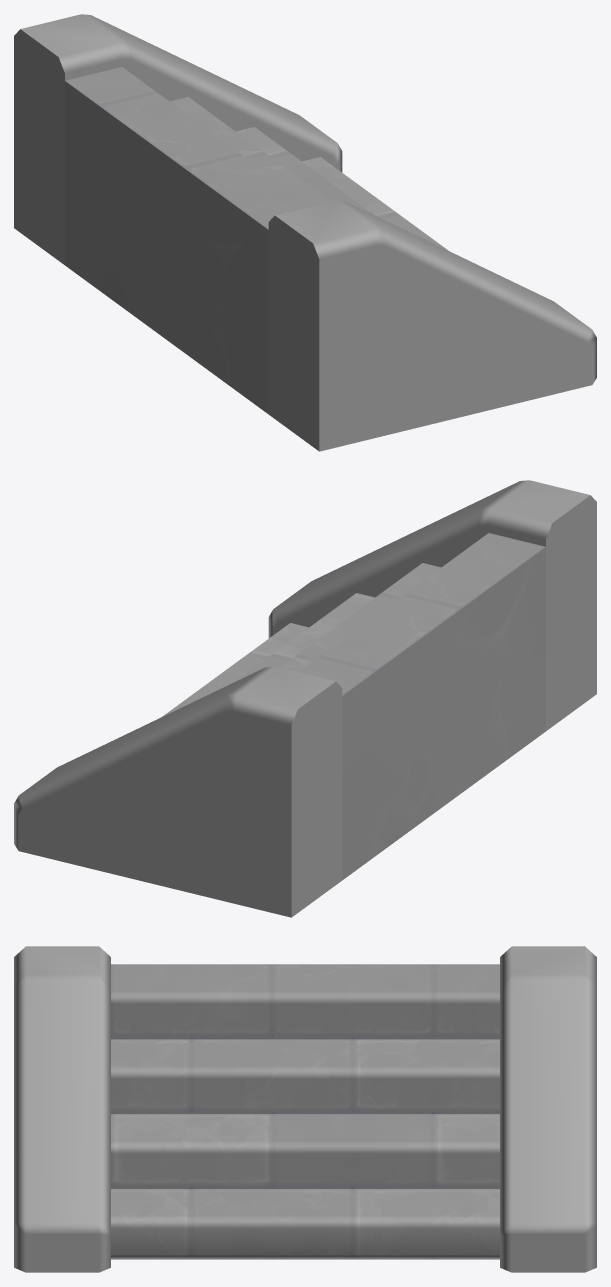
The model's file is G_Stair_002_S1_P01.FBX.
3 views of the same model, one above another, from view 1: azimuth 30°, elevation 25°; view 2: azimuth 150°, elevation 25°; view 3: azimuth 270°, elevation 25° (orthographic). The views are drawn at different scales.
Parts seen in each view (by area): view 1: G_Stair_002_S1_P01_LOD0; view 2: G_Stair_002_S1_P01_LOD0; view 3: G_Stair_002_S1_P01_LOD0.
Boxes of the visible parts, x1,y1,x2,y2 form: G_Stair_002_S1_P01_LOD0: (14, 14, 596, 451); G_Stair_002_S1_P01_LOD0: (14, 480, 596, 917); G_Stair_002_S1_P01_LOD0: (14, 946, 596, 1272).
Size of the model in its own units: 161 by 110 by 300.
2 materials, 1 textured.
